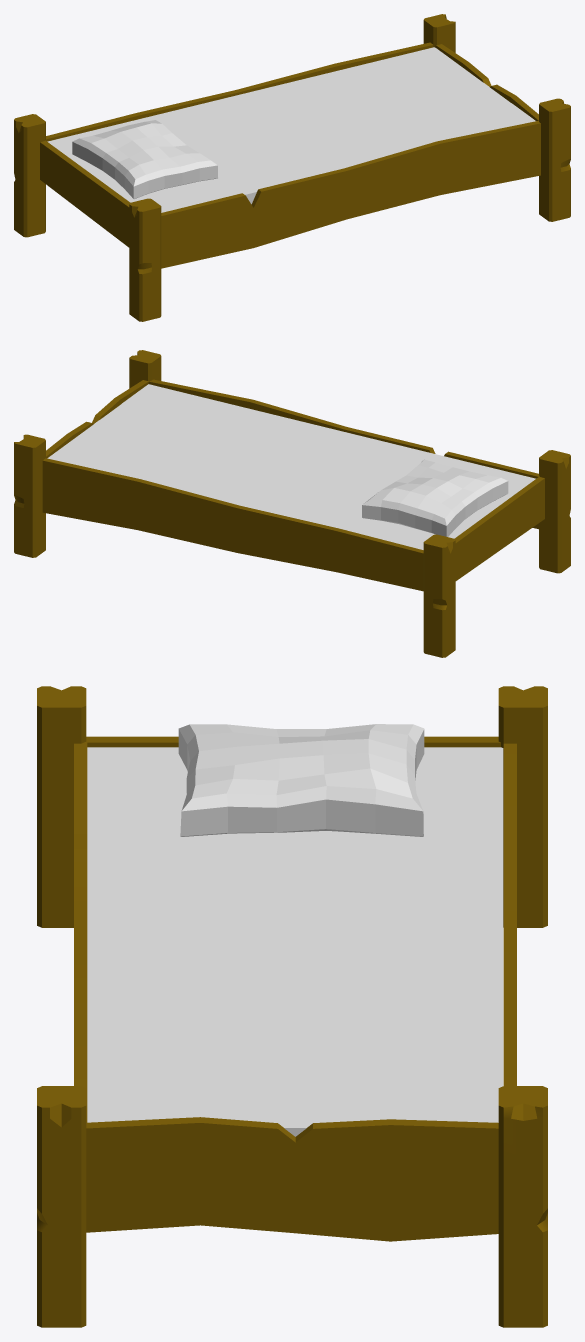
File: Cama.fbx
3 views of the same model, one above another, from view 1: azimuth 30°, elevation 25°; view 2: azimuth 150°, elevation 25°; view 3: azimuth 270°, elevation 25° (orthographic). The views are drawn at different scales.
Visible parts, largest first — view 1: group39_pCube250; view 2: group39_pCube250; view 3: group39_pCube250.
Boxes of the visible parts, left/top/right/bottom form: group39_pCube250: left=14, top=14, right=570, bottom=321; group39_pCube250: left=14, top=350, right=570, bottom=657; group39_pCube250: left=37, top=686, right=547, bottom=1327.
Size of the model in its own units: 1.96 by 0.4981 by 1.
